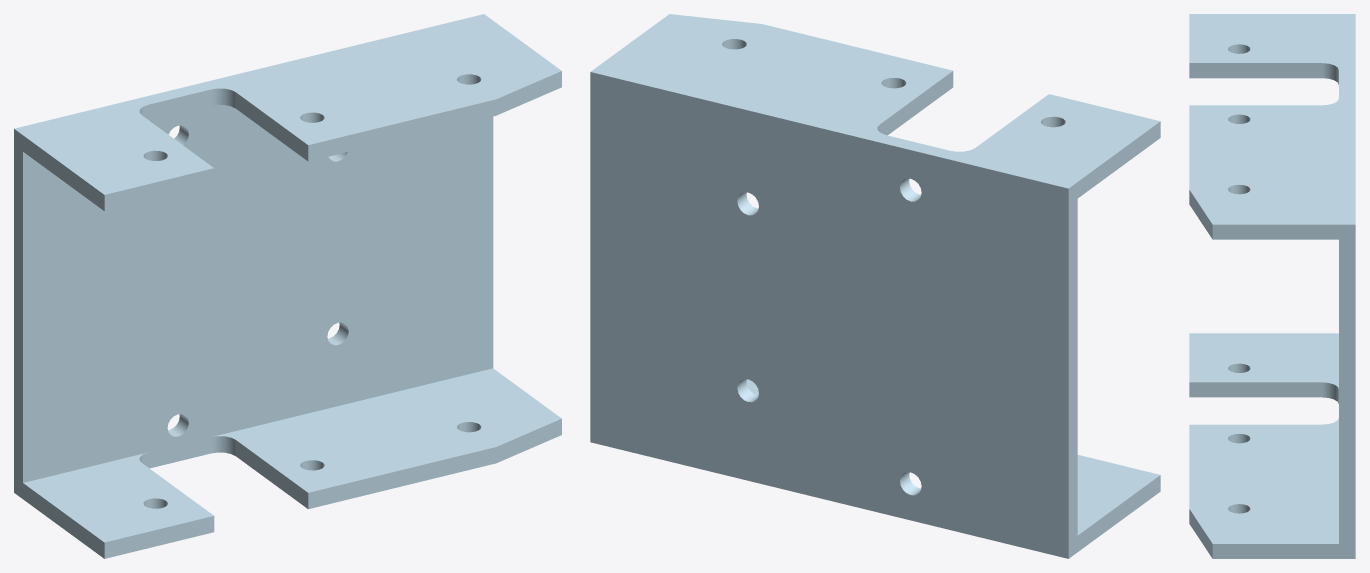
3 renders of one model, left to right at view 1: azimuth 30°, elevation 25°; view 2: azimuth 150°, elevation 25°; view 3: azimuth 270°, elevation 25°, orthographic. The views are drawn at different scales.
Visible parts, largest first — view 1: mesh903, mesh917, mesh914, mesh901, mesh892, mesh906, mesh911, mesh894, mesh893, mesh905, mesh910, mesh907 (+1 smaller); view 2: mesh888, mesh917, mesh892, mesh901, mesh905; view 3: mesh917, mesh914, mesh908, mesh901, mesh895, mesh899, mesh912, mesh907, mesh896, mesh900.
Part boxes in pixels (<box>): mesh903: <box>23,89,493,482</box>; mesh917: <box>14,14,561,194</box>; mesh914: <box>212,368,561,492</box>; mesh901: <box>23,453,213,542</box>; mesh892: <box>14,129,104,558</box>; mesh906: <box>308,99,496,161</box>; mesh911: <box>308,447,496,508</box>; mesh894: <box>104,168,214,210</box>; mesh893: <box>104,516,214,558</box>; mesh905: <box>236,92,308,161</box>; mesh910: <box>236,440,308,508</box>; mesh907: <box>496,71,561,115</box>; mesh888: <box>590,72,1068,558</box>; mesh917: <box>591,14,1160,188</box>; mesh892: <box>1068,121,1160,558</box>; mesh901: <box>1077,455,1159,535</box>; mesh905: <box>879,71,953,135</box>; mesh917: <box>1189,14,1355,224</box>; mesh914: <box>1189,418,1338,543</box>; mesh908: <box>1212,224,1355,558</box>; mesh901: <box>1189,333,1338,388</box>; mesh895: <box>1189,63,1322,78</box>; mesh899: <box>1189,382,1322,397</box>; mesh912: <box>1189,509,1212,558</box>; mesh907: <box>1189,190,1212,238</box>; mesh896: <box>1322,63,1338,84</box>; mesh900: <box>1322,382,1338,403</box>.
Bounding box in the file's own units: 0.15 × 0.111 × 0.05.
